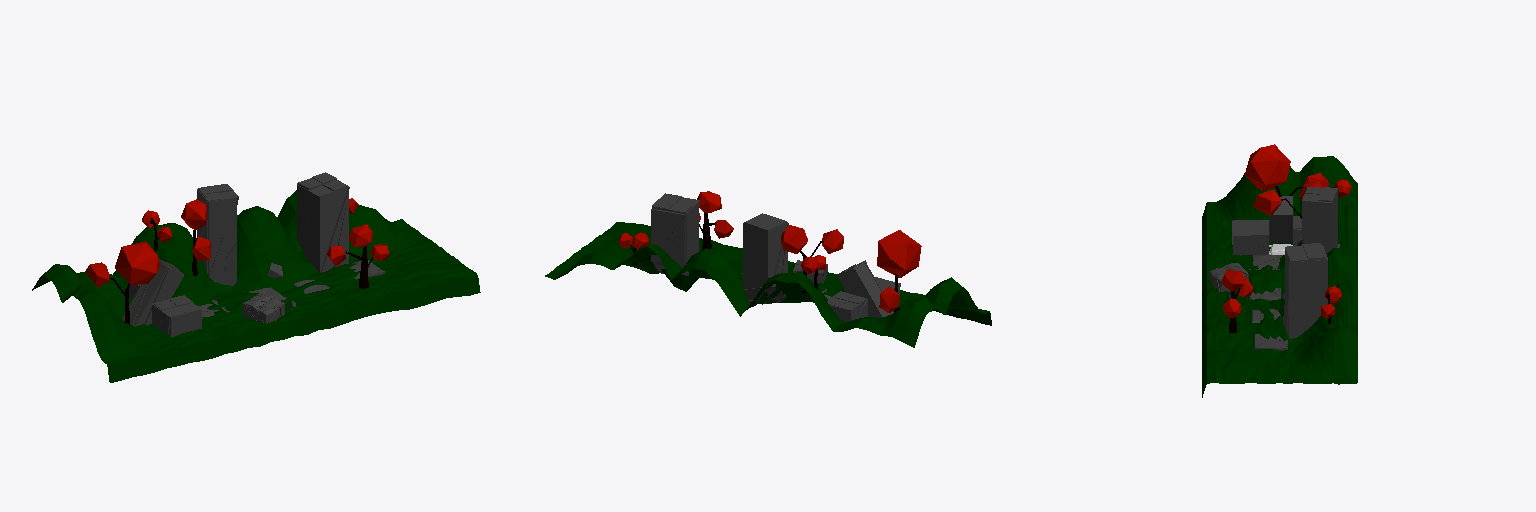
File: dusk_4.obj
3 views of the same model, side by side, from view 1: azimuth 30°, elevation 25°; view 2: azimuth 150°, elevation 25°; view 3: azimuth 270°, elevation 25° (orthographic).
Parts seen in each view (by area): view 1: Plane, Cube.010_Cube.012, Cube.009_Cube.011, Cylinder.003, Cube_Cube.001, Cube.001_Cube.002, Cube.012_Cube.003, Cylinder.002, Cube.014_Cube; view 2: Plane, Cube.009_Cube.011, Cube.010_Cube.012, Cylinder.003, Cube_Cube.001, Cylinder.002, Cube.012_Cube.003, Cube.002_Cube.004; view 3: Plane, Cube.010_Cube.012, Cube.009_Cube.011, Cylinder.003, Cube.001_Cube.002, Cube.012_Cube.003, Cube_Cube.001, Cylinder.002.
Part boxes in pixels (x1,y1,x2,y2): Plane: (32,190,480,382); Cube.010_Cube.012: (297,172,349,272); Cube.009_Cube.011: (197,184,238,285); Cylinder.003: (85,241,160,324); Cube_Cube.001: (122,259,183,326); Cube.001_Cube.002: (152,295,201,337); Cube.012_Cube.003: (327,224,389,288); Cylinder.002: (181,199,210,275); Cube.014_Cube: (242,293,284,323); Plane: (545,222,991,347); Cube.009_Cube.011: (743,213,788,306); Cube.010_Cube.012: (651,193,699,275); Cylinder.003: (877,230,921,312); Cube_Cube.001: (837,260,893,317); Cylinder.002: (781,225,843,293); Cube.012_Cube.003: (697,191,733,249); Cube.002_Cube.004: (827,291,867,322); Plane: (1202,156,1357,397); Cube.010_Cube.012: (1283,243,1327,338); Cube.009_Cube.011: (1301,187,1339,252); Cylinder.003: (1245,144,1328,196); Cube.001_Cube.002: (1232,220,1268,255); Cube.012_Cube.003: (1221,270,1253,332); Cube_Cube.001: (1269,196,1292,242); Cylinder.002: (1253,181,1322,243).
Bounding box in the file's own units: 15.57 × 4.32 × 5.69.